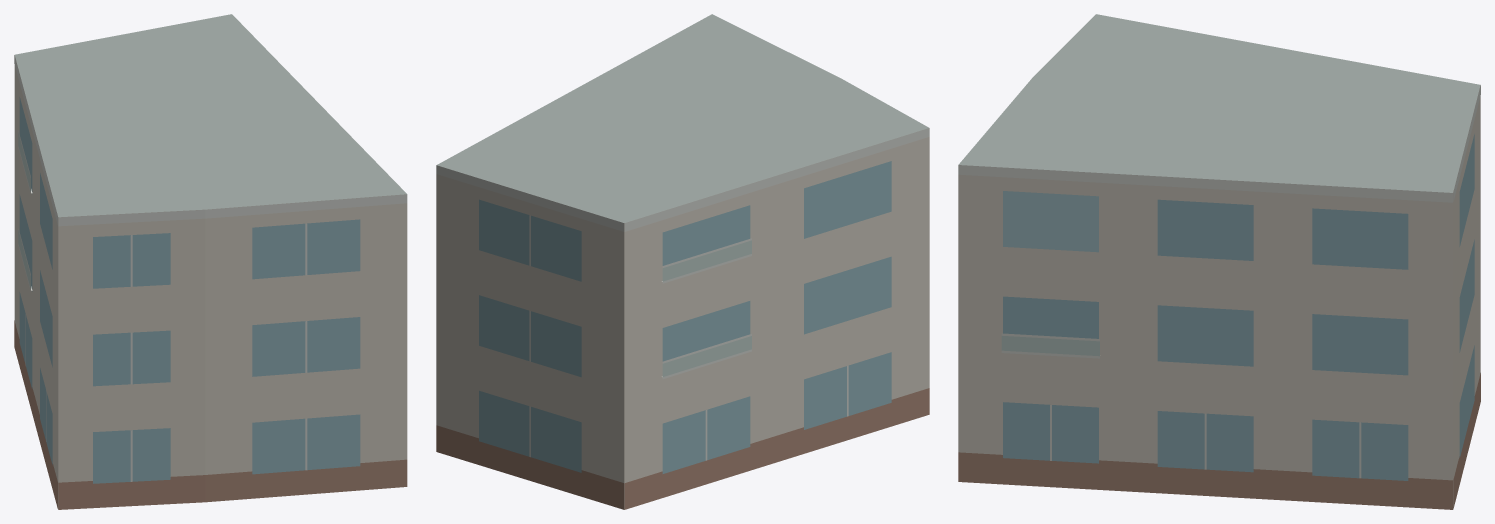
File: survey-upis-32505800.glb
3 views of the same model, side by side, from view 1: azimuth 30°, elevation 25°; view 2: azimuth 150°, elevation 25°; view 3: azimuth 270°, elevation 25° (orthographic). The views are drawn at different scales.
Visible parts, largest first — view 1: survey-upis-32505800.tmp; view 2: survey-upis-32505800.tmp; view 3: survey-upis-32505800.tmp.
Boxes of the visible parts, x1,y1,x2,y2 form: survey-upis-32505800.tmp: (14, 14, 407, 509); survey-upis-32505800.tmp: (436, 14, 929, 509); survey-upis-32505800.tmp: (958, 14, 1480, 509).
Size of the model in its own units: 9.58 by 7.9 by 11.81.
